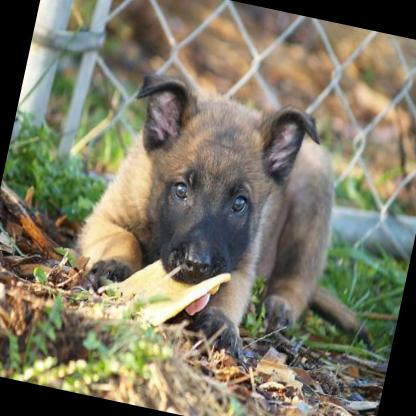malinois: (55, 55, 416, 383)
